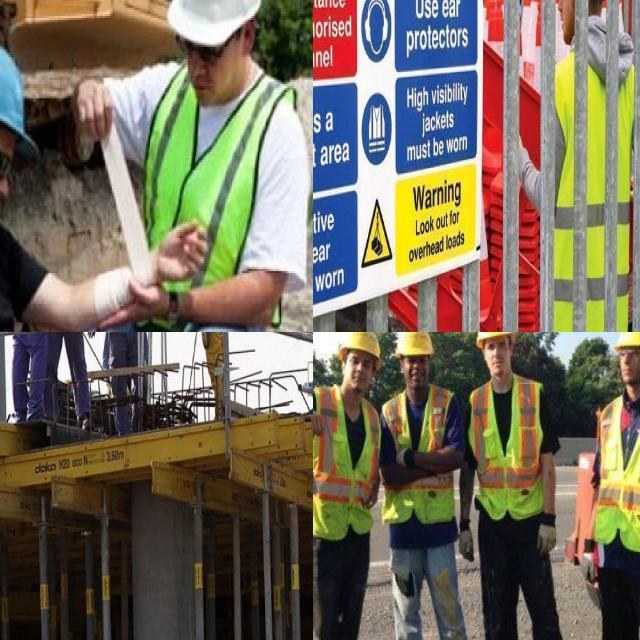face_nomask: (184, 41, 236, 112), (0, 121, 23, 230), (343, 347, 372, 398), (480, 334, 514, 374), (556, 0, 585, 41), (617, 344, 640, 389), (400, 353, 429, 388)
glasses: (173, 28, 227, 68), (0, 144, 20, 183)
hand_glove: (578, 536, 602, 590), (539, 510, 559, 560), (455, 522, 477, 563), (86, 332, 97, 345)
hand_noglove: (158, 222, 218, 290), (103, 285, 167, 332), (76, 75, 119, 144)
head_helmet: (161, 0, 264, 48), (0, 30, 36, 153), (397, 332, 436, 358), (341, 332, 381, 357), (610, 332, 640, 351), (475, 332, 515, 341)
person: (81, 0, 304, 332), (539, 0, 640, 332), (467, 332, 566, 640), (388, 332, 470, 640), (316, 332, 383, 640), (577, 332, 640, 640), (102, 332, 161, 417), (44, 332, 89, 415), (193, 332, 241, 409), (3, 332, 40, 431)
vest: (139, 67, 301, 332), (543, 56, 632, 332), (387, 386, 460, 526), (474, 377, 546, 518), (313, 394, 383, 535), (598, 388, 640, 556)
